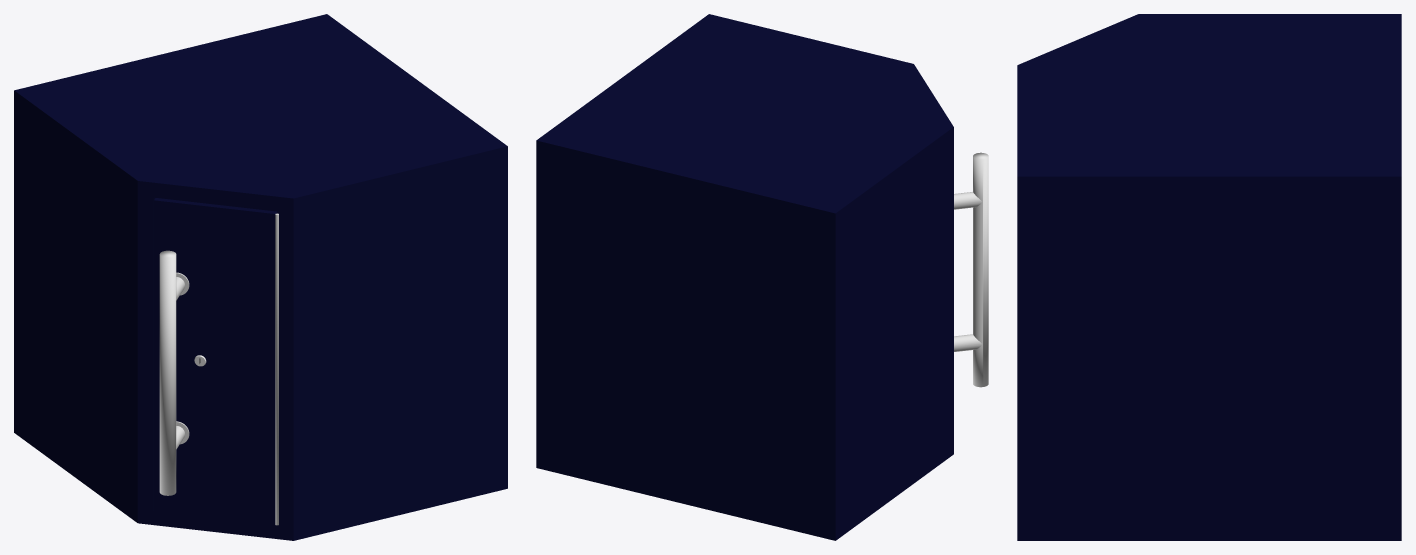
Rendered from cornerWallMountLux.glb.
The picture shows the model from 3 angles, left to right: view 1: azimuth 30°, elevation 25°; view 2: azimuth 150°, elevation 25°; view 3: azimuth 270°, elevation 25°; orthographic projection. The views are drawn at different scales.
Visible parts, largest first — view 1: upperShell, doors, handles, hinge; view 2: upperShell, handles; view 3: upperShell.
Boxes of the visible parts, x1,y1,x2,y2 form: upperShell: (14, 14, 507, 540); doors: (154, 198, 277, 524); handles: (159, 250, 189, 495); hinge: (275, 213, 278, 525); upperShell: (536, 14, 953, 540); handles: (954, 152, 988, 387); upperShell: (1017, 14, 1401, 540).
Bounding box in the file's own units: 0.5698 × 0.5842 × 0.5588.
